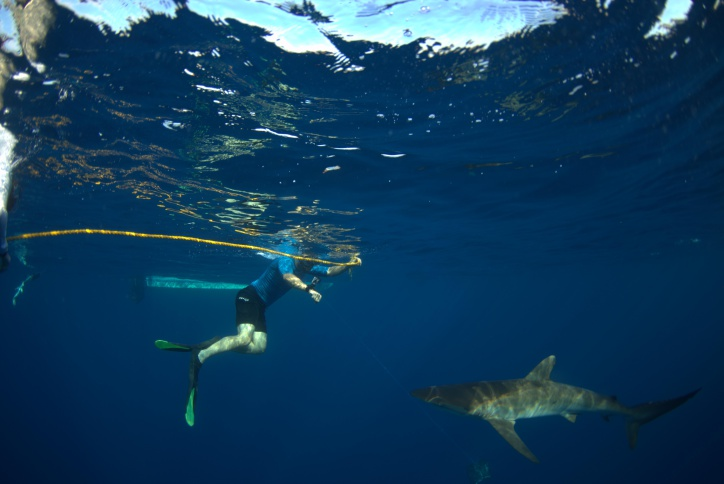Sedoso: (403, 350, 707, 468)
